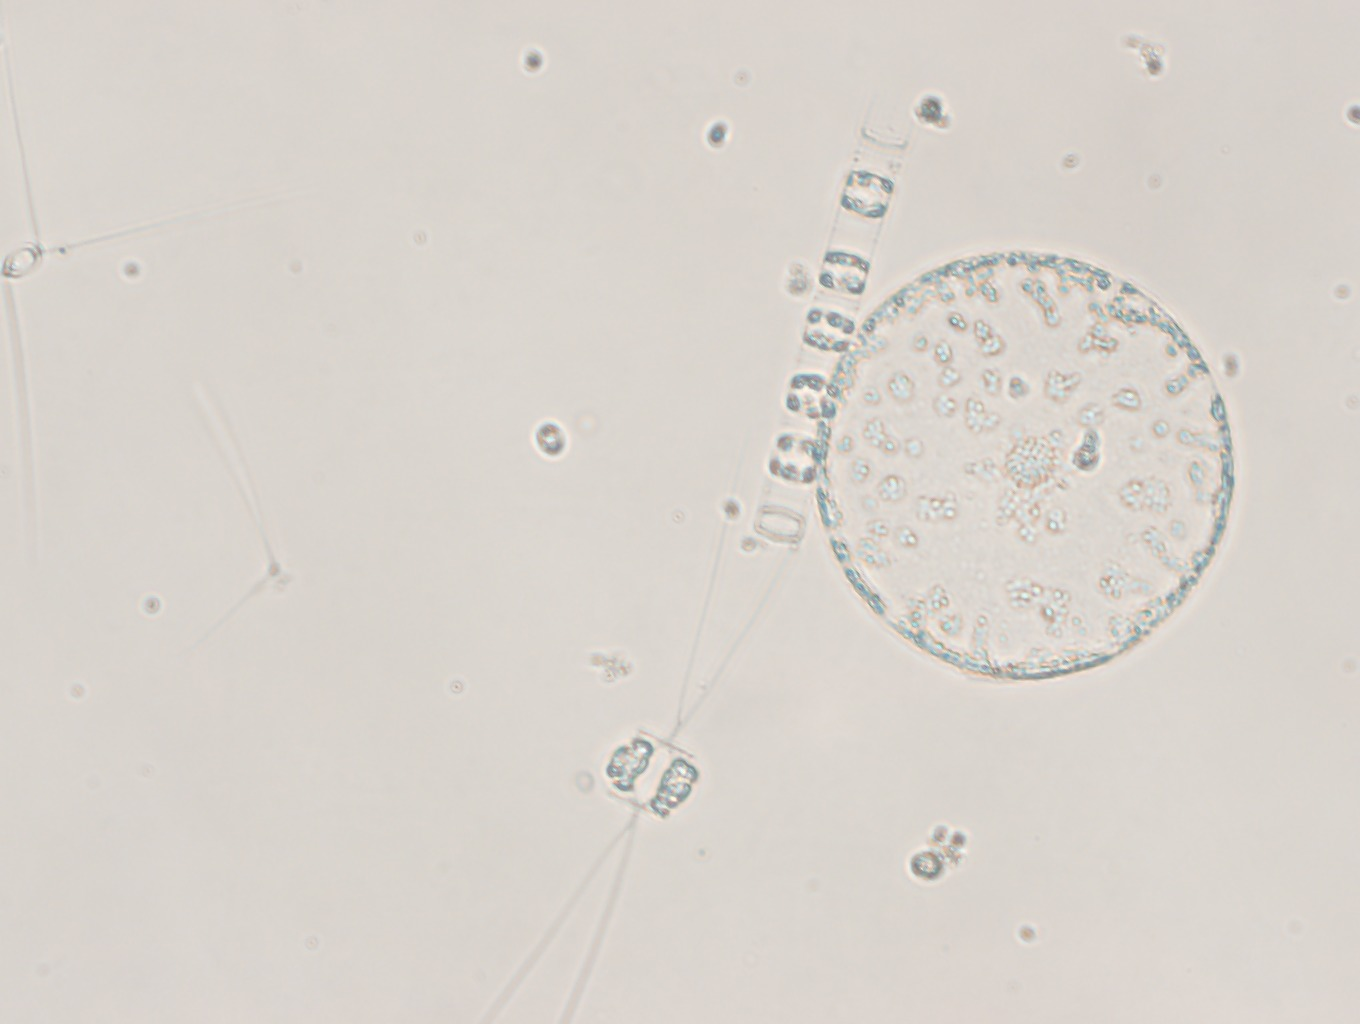chaetoceros: (472, 481, 802, 1024)
coscinodiscus: (810, 239, 1240, 694)
skeletonema: (750, 94, 920, 560)
